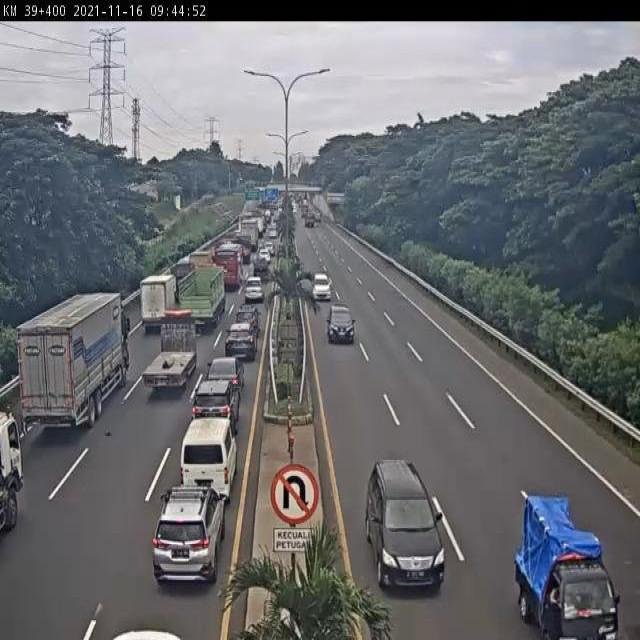big bus: (207, 247, 244, 296)
car: (517, 490, 621, 640), (365, 456, 446, 592), (150, 490, 222, 586), (188, 382, 236, 447), (205, 355, 246, 396), (223, 327, 255, 365), (326, 302, 356, 342), (236, 302, 263, 334), (241, 276, 266, 304), (312, 271, 330, 297)
small bus: (183, 419, 238, 500)
small truck: (182, 253, 211, 296)
truck-l-: (17, 292, 131, 436), (176, 265, 228, 332)
truck-m-: (139, 320, 197, 395), (139, 276, 178, 339)
